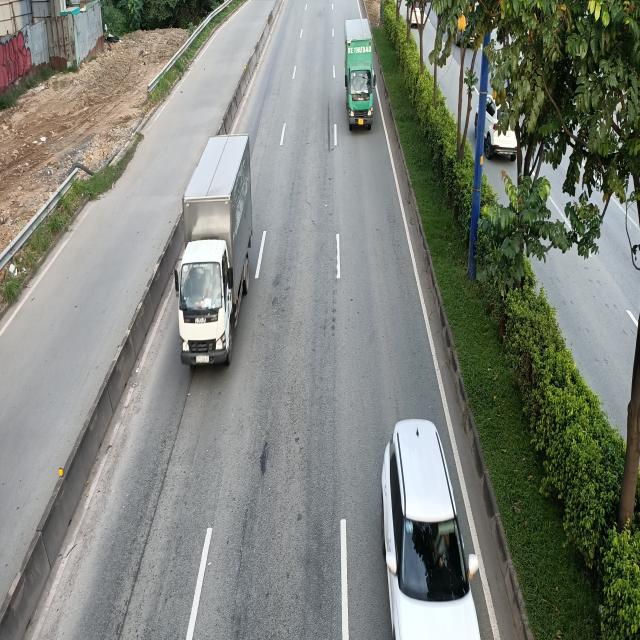car: (378, 418, 482, 638)
truck: (178, 137, 257, 372), (343, 19, 378, 133)
